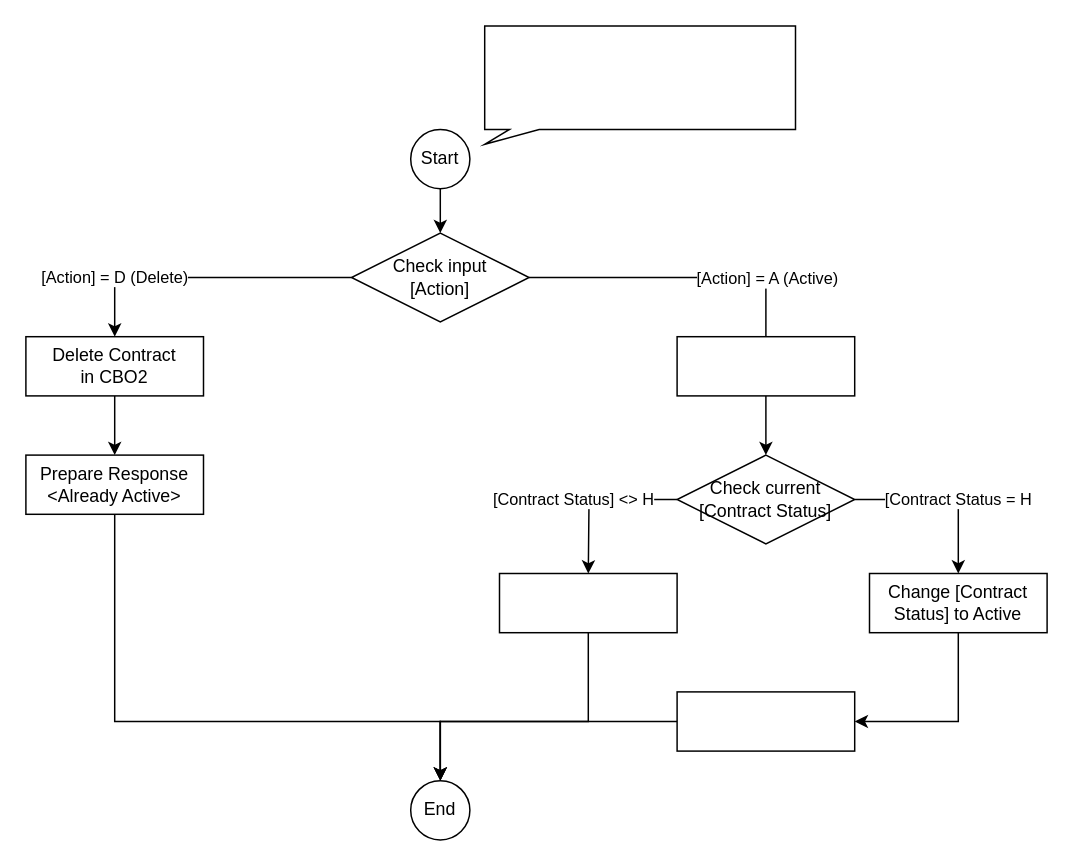
Image size: 1073x866. Some labels were removed from this diagram. Each missing label, with the box of its shape:
Get CBO2 [Contract Status]: (676, 335, 855, 396)
Input : [ContractBookNo] and [SigningBookDate] and [Action]: (483, 24, 796, 144)
Prepare Response <Change Completed>: (676, 690, 855, 751)
Prepare Response <Invalid Status>: (498, 572, 677, 633)
